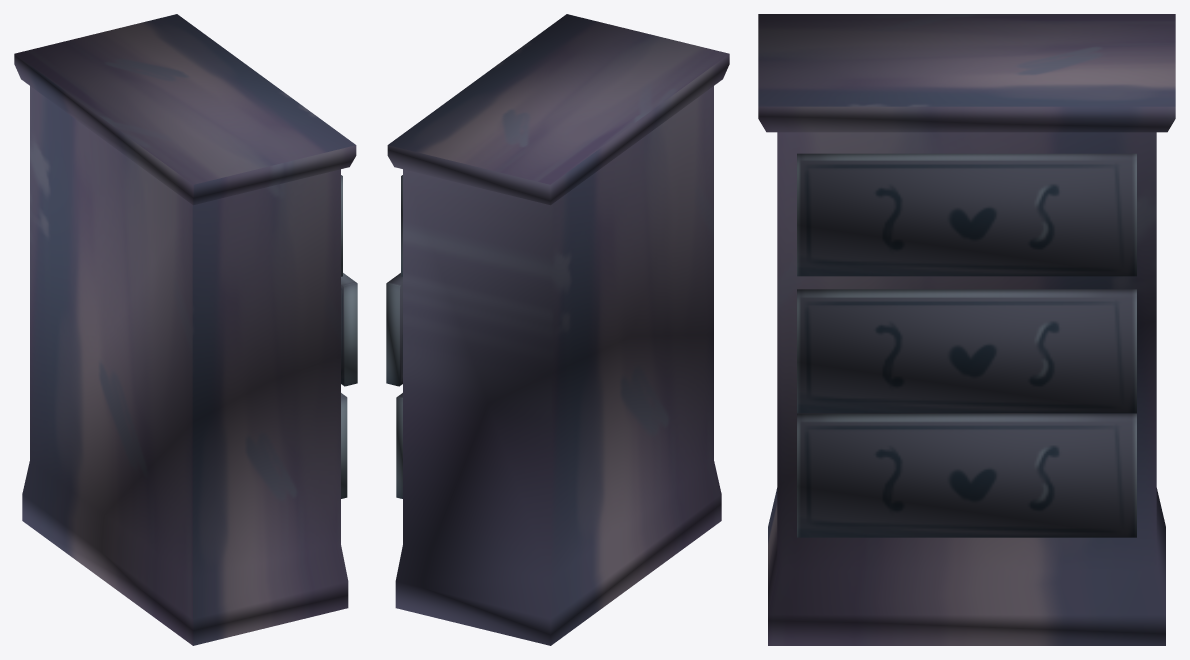
Rendered from Armario.fbx.
3 renders of one model, left to right at view 1: azimuth 30°, elevation 25°; view 2: azimuth 150°, elevation 25°; view 3: azimuth 270°, elevation 25°, orthographic. The views are drawn at different scales.
Parts seen in each view (by area): view 1: Armario; view 2: Armario; view 3: Armario.
Boxes of the visible parts, box(x1,y1,x2,y2) form: Armario: box(14, 14, 357, 645); Armario: box(386, 14, 729, 645); Armario: box(758, 14, 1175, 645).
Bounding box in the file's own units: 152 × 261 × 374.
